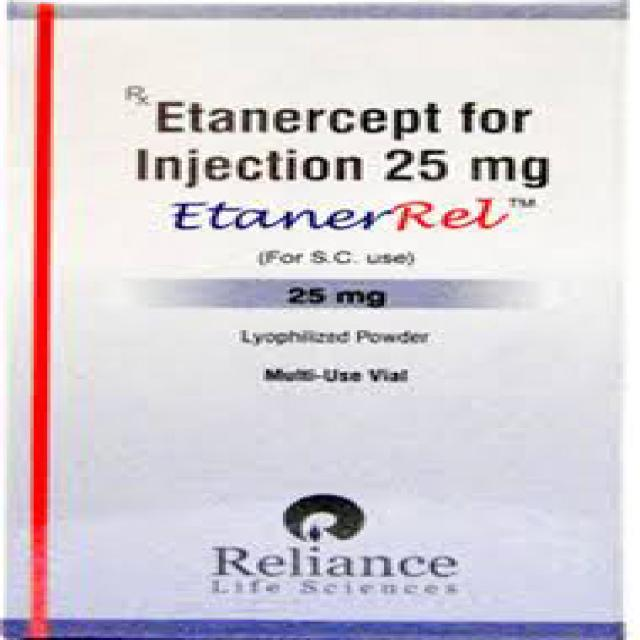drug-name: (169, 190, 506, 240)
